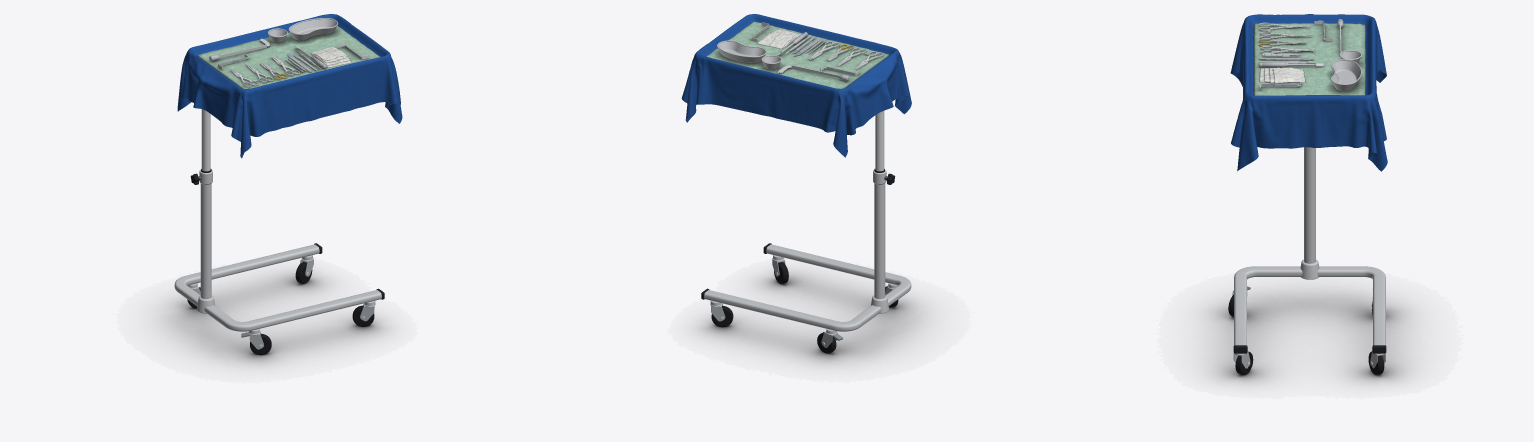
File: mesa-arsenalera.glb
The picture shows the model from 3 angles, left to right: view 1: azimuth 30°, elevation 25°; view 2: azimuth 150°, elevation 25°; view 3: azimuth 270°, elevation 25°; orthographic projection. The views are drawn at different scales.
Parts seen in each view (by area): view 1: funda, sombra, base, compresa, instrumental, recipientes, bandeja, gasas; view 2: funda, sombra, base, compresa, instrumental, recipientes, bandeja, gasas; view 3: funda, sombra, base, compresa, instrumental, recipientes, gasas.
Boxes of the visible parts, x1=… form: funda: x1=177, y1=14, x2=402, y2=158; sombra: x1=165, y1=272, x2=385, y2=364; base: x1=174, y1=169, x2=384, y2=354; compresa: x1=197, y1=26, x2=379, y2=88; instrumental: x1=209, y1=38, x2=368, y2=86; recipientes: x1=267, y1=18, x2=338, y2=42; bandeja: x1=201, y1=109, x2=210, y2=171; gasas: x1=311, y1=46, x2=351, y2=67; funda: x1=681, y1=14, x2=911, y2=157; sombra: x1=700, y1=272, x2=921, y2=363; base: x1=701, y1=169, x2=911, y2=353; compresa: x1=706, y1=21, x2=889, y2=88; instrumental: x1=750, y1=22, x2=883, y2=80; recipientes: x1=717, y1=40, x2=781, y2=69; bandeja: x1=875, y1=111, x2=884, y2=171; gasas: x1=757, y1=29, x2=800, y2=48; funda: x1=1230, y1=14, x2=1387, y2=171; sombra: x1=1210, y1=292, x2=1408, y2=382; base: x1=1228, y1=147, x2=1386, y2=374; compresa: x1=1253, y1=23, x2=1365, y2=95; instrumental: x1=1258, y1=19, x2=1361, y2=90; recipientes: x1=1330, y1=50, x2=1361, y2=91; gasas: x1=1259, y1=67, x2=1305, y2=83.
Bounding box in the file's own units: 1.3 × 1.02 × 1.3.
13 materials, 3 textured.
